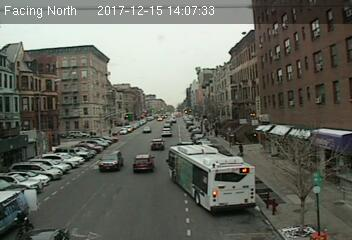bicycle: (13, 209, 36, 240)
bus: (167, 143, 256, 217)
car: (21, 230, 69, 240), (134, 152, 156, 172), (99, 150, 122, 169), (150, 138, 165, 153), (161, 127, 170, 135)
pedestrian: (237, 143, 245, 155)
truck: (1, 188, 27, 231)
